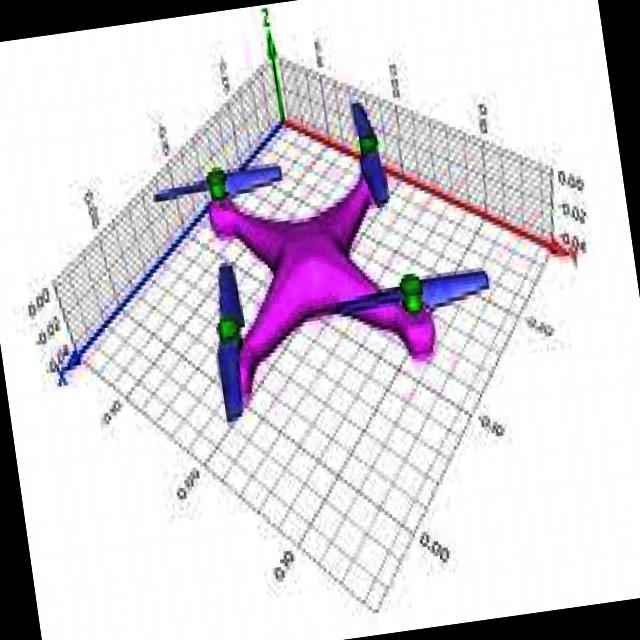drone: (144, 99, 527, 436)
